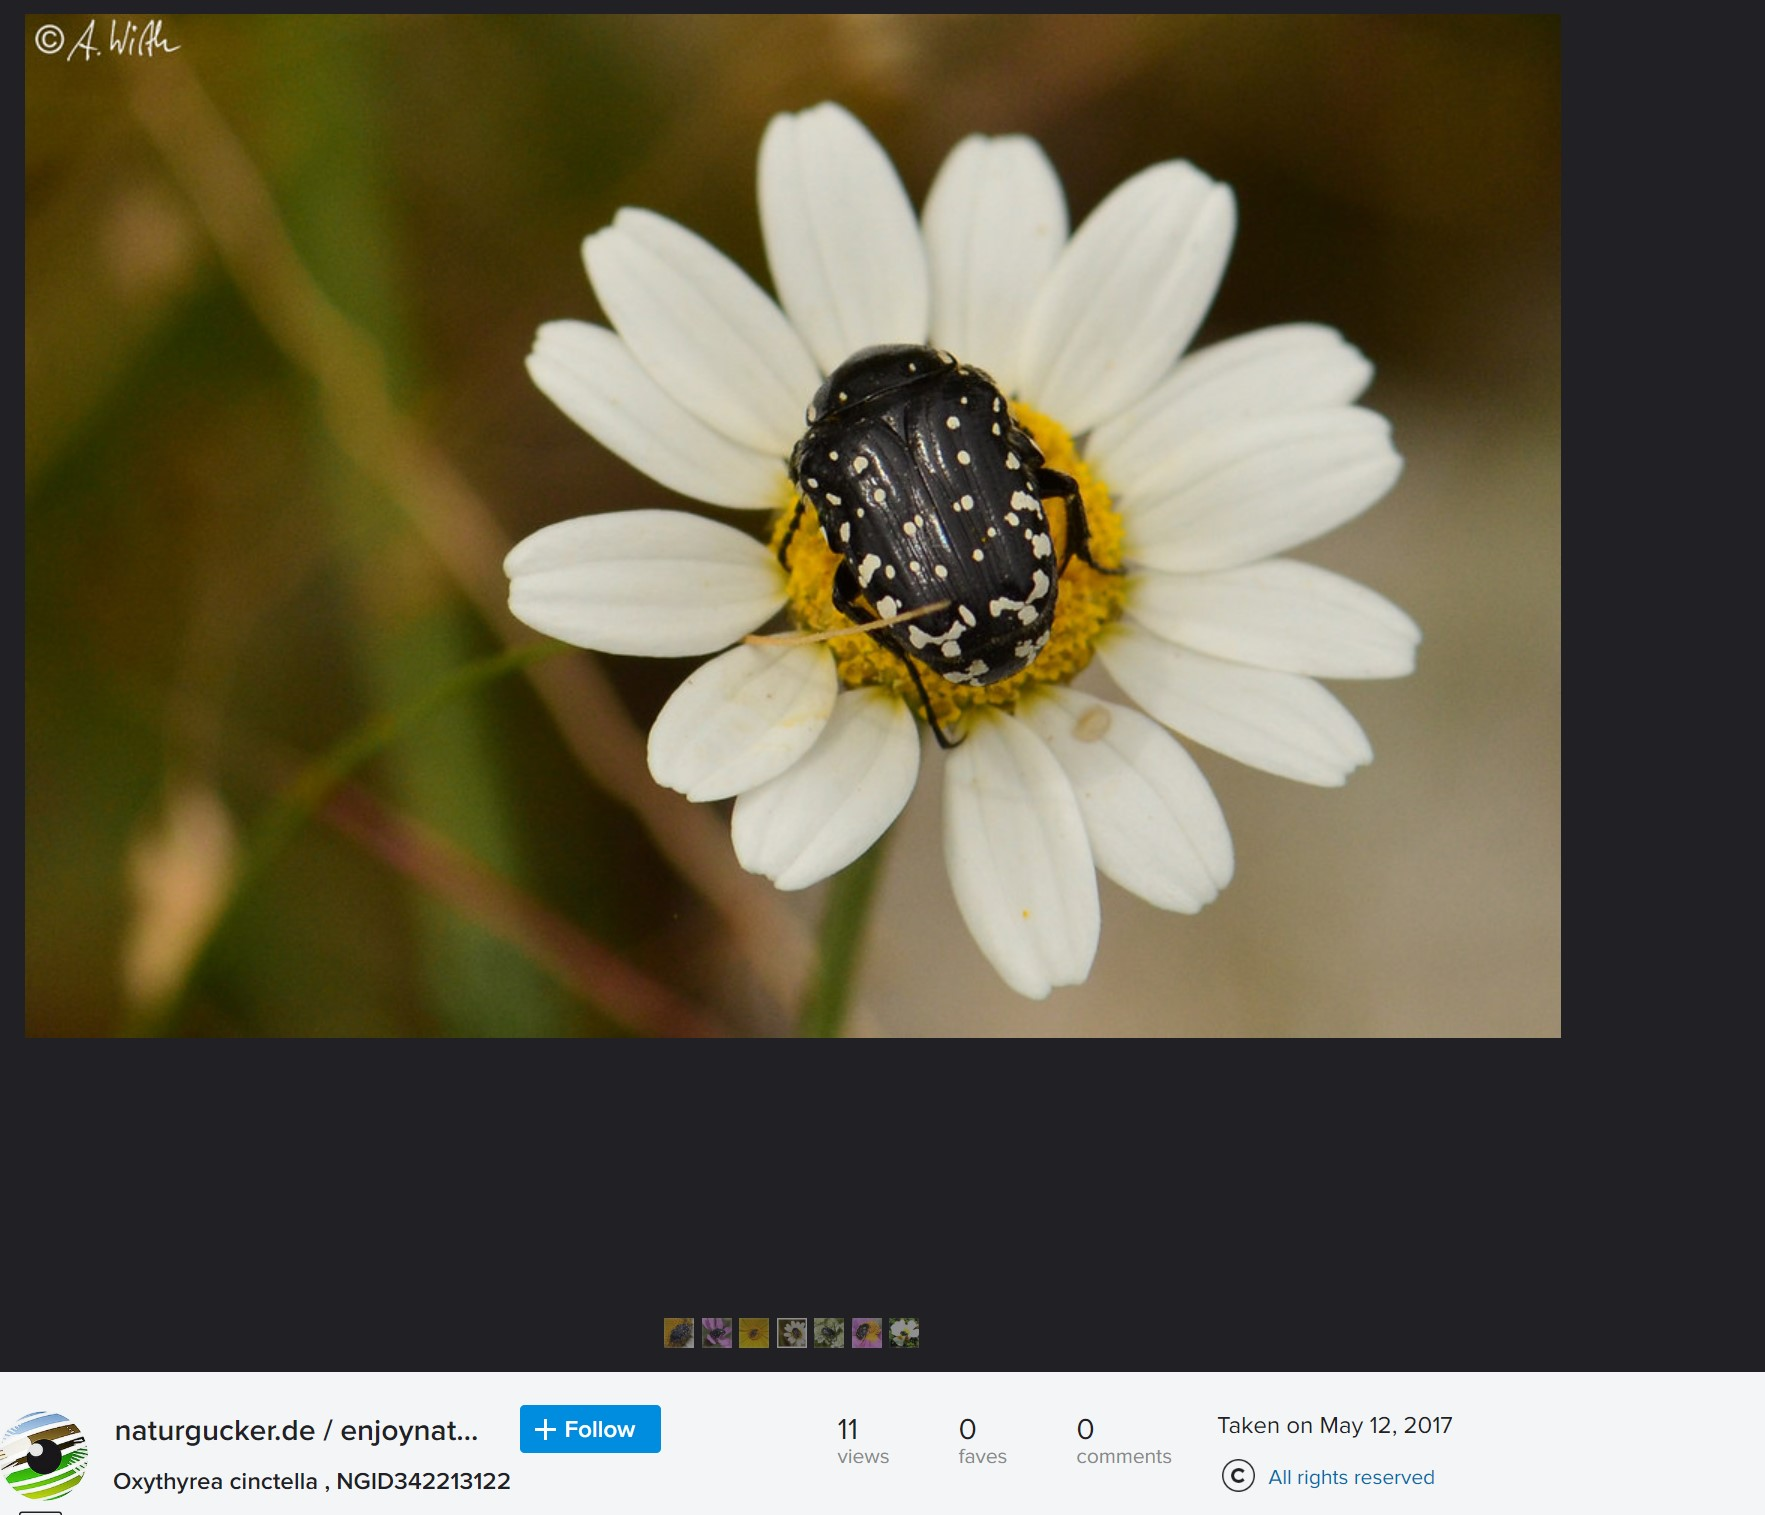Oxythyrea_cinctella: (776, 305, 1138, 757)
